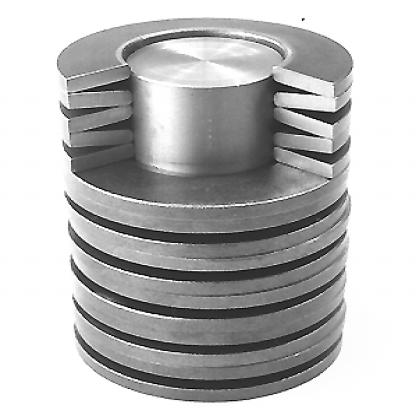FOD: (52, 16, 354, 402)
